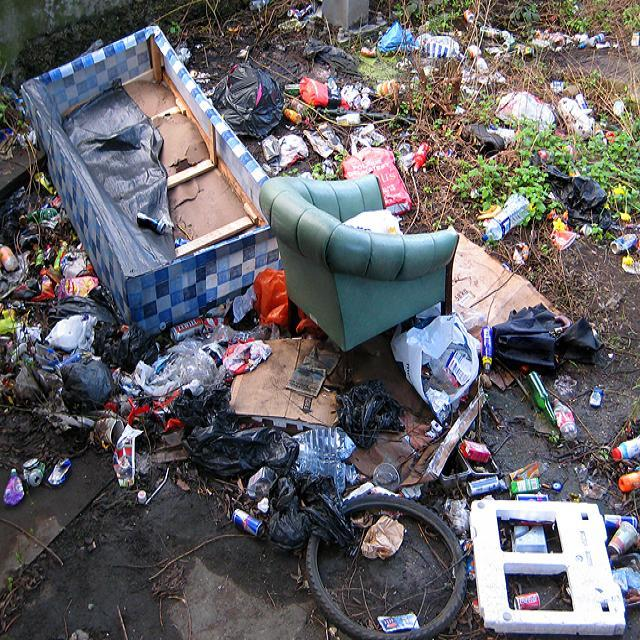Trashbag: (186, 409, 301, 481), (487, 304, 601, 374), (258, 472, 359, 550), (206, 68, 281, 140), (330, 378, 406, 446), (55, 352, 114, 420)
